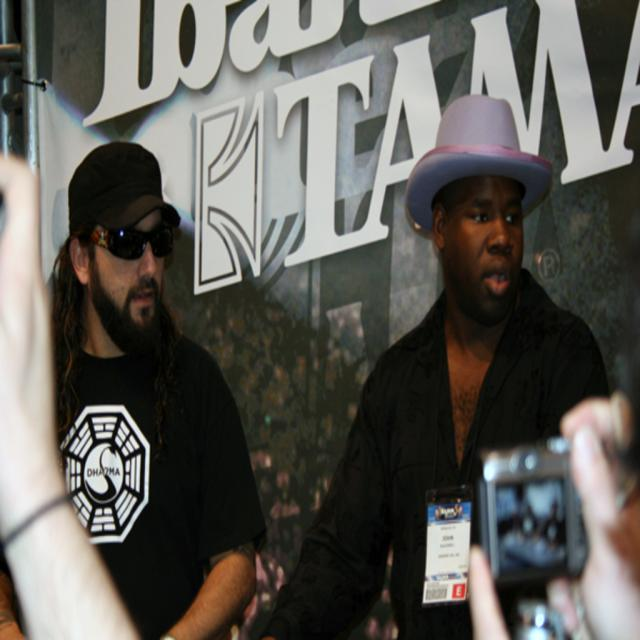Hat: (406, 89, 553, 242), (67, 141, 180, 237)
